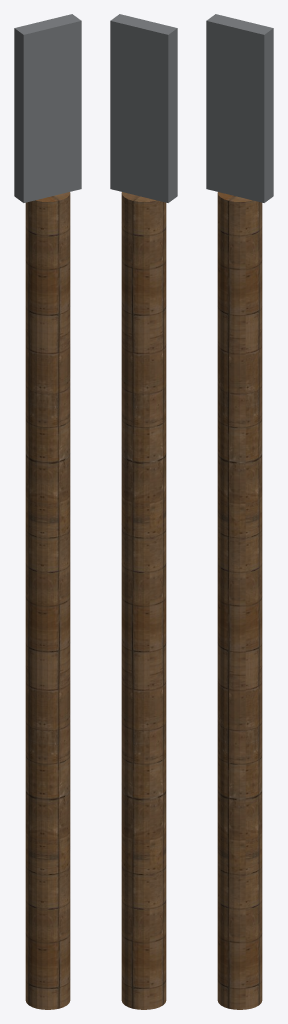
File: lanca.glb
The picture shows the model from 3 angles, left to right: view 1: azimuth 30°, elevation 25°; view 2: azimuth 150°, elevation 25°; view 3: azimuth 330°, elevation 25°; orthographic projection.
Parts seen in each view (by area): view 1: Empunhadura, Lâmina esquemática; view 2: Empunhadura, Lâmina esquemática; view 3: Empunhadura, Lâmina esquemática.
Part boxes in pixels (<box>): Empunhadura: <box>25,192,70,1009</box>; Lâmina esquemática: <box>14,14,81,202</box>; Empunhadura: <box>121,192,166,1009</box>; Lâmina esquemática: <box>110,14,177,202</box>; Empunhadura: <box>217,192,262,1009</box>; Lâmina esquemática: <box>206,14,273,202</box>.
Bounding box in the file's own units: 0.18 × 2.9 × 0.12.
Materials: 2 (1 with a texture image).
